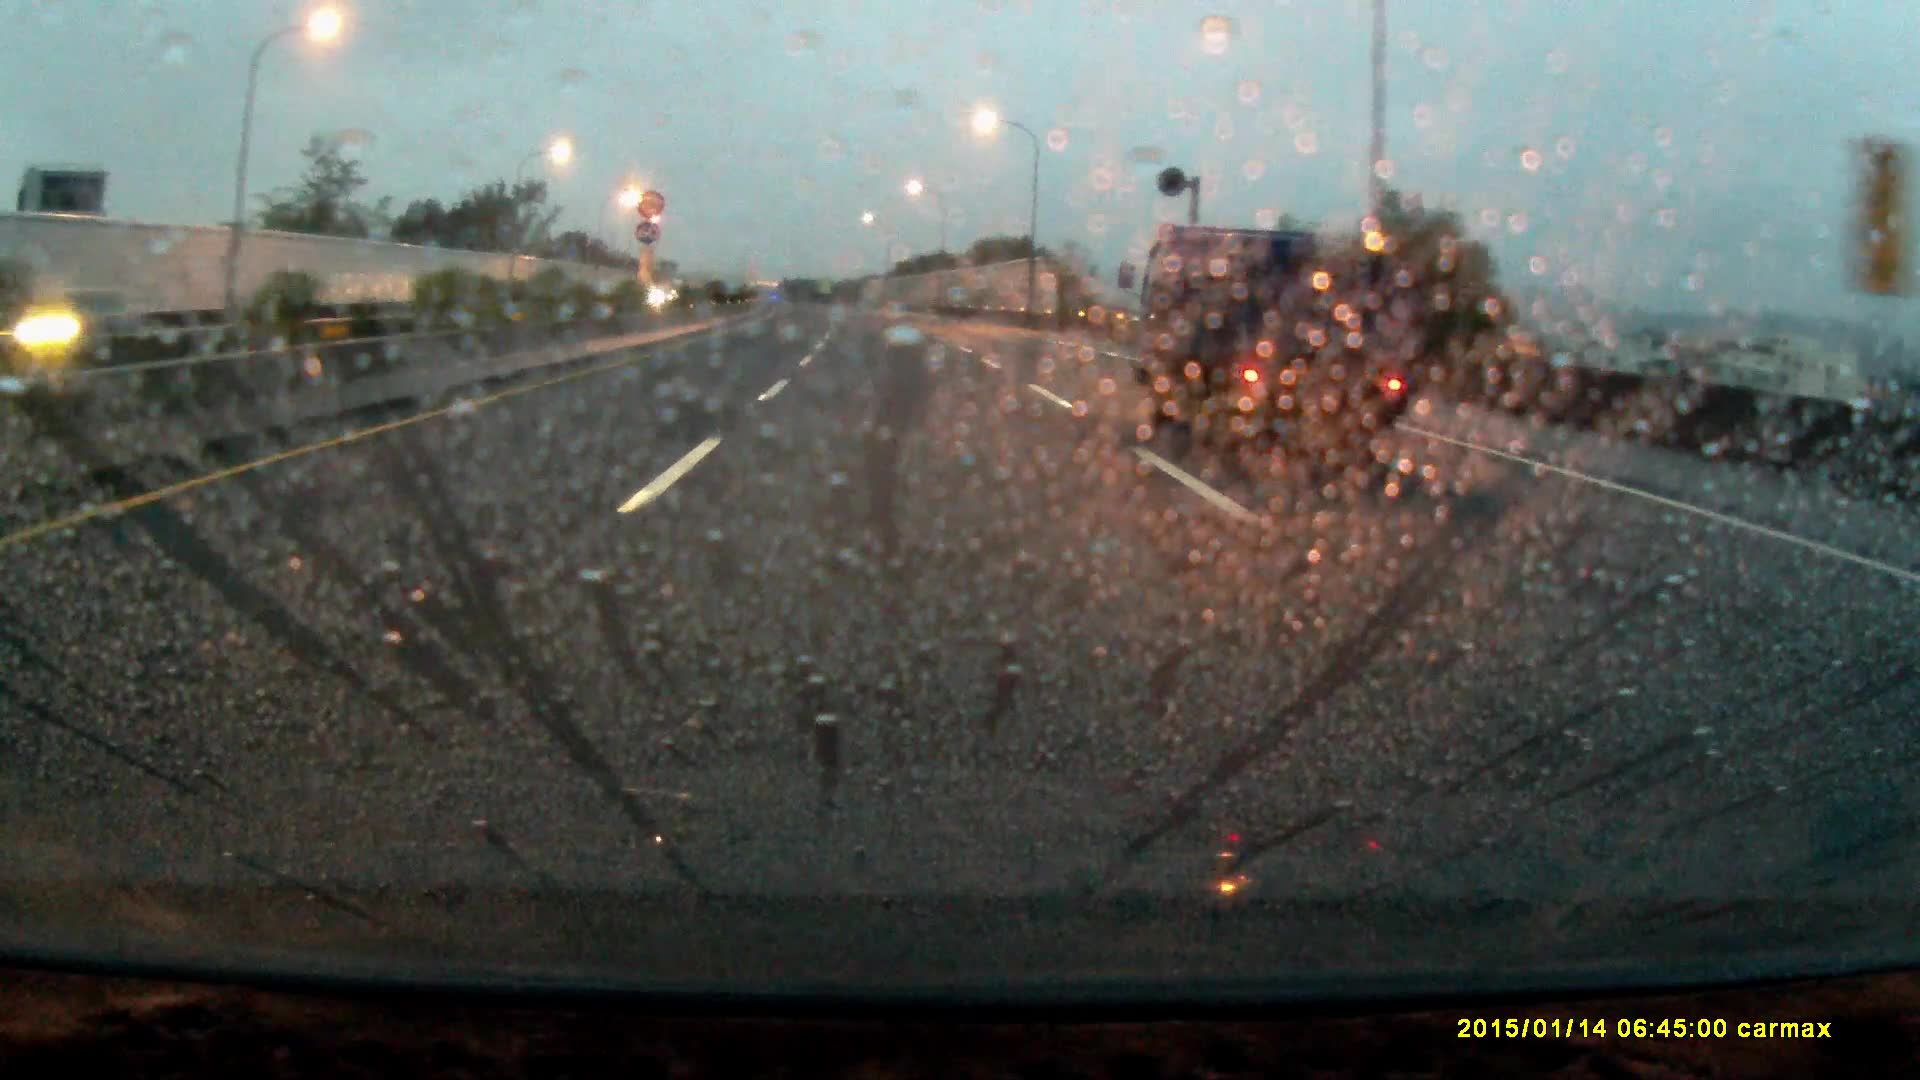vehicle: (1163, 215, 1435, 495)
